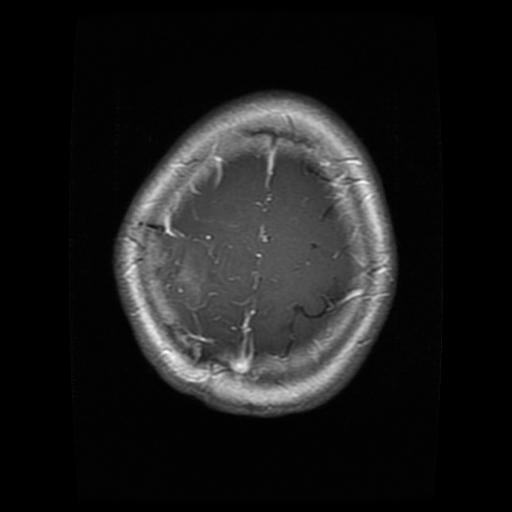Gliomia_tumour: (158, 235, 215, 307)
